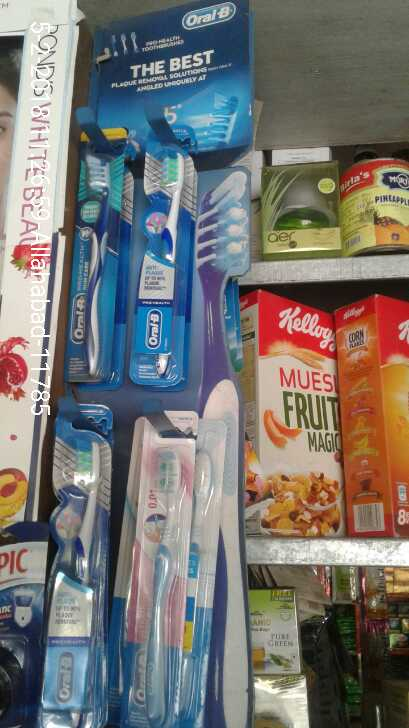oralb: (46, 404, 108, 723), (131, 412, 189, 728), (135, 143, 196, 386), (66, 141, 116, 383)
